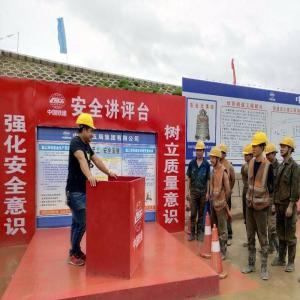yellow: (77, 112, 96, 146), (252, 132, 268, 160), (280, 137, 296, 163), (265, 143, 279, 165), (209, 148, 222, 169), (194, 141, 207, 161), (243, 144, 255, 163)
